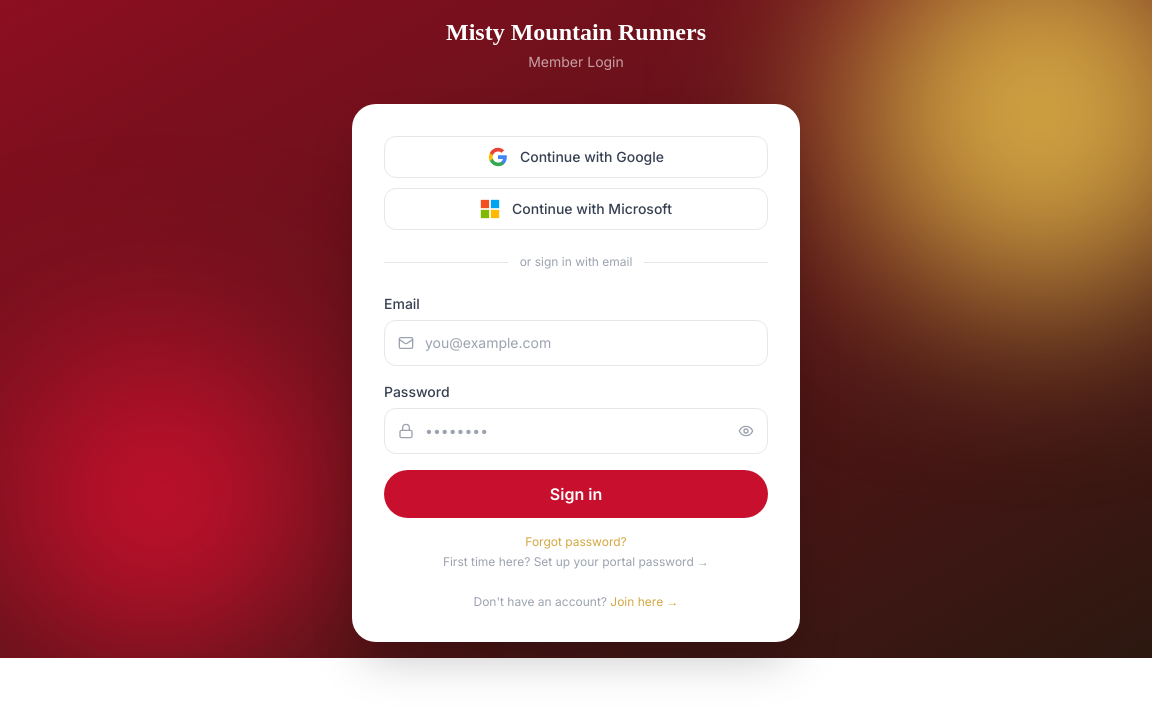
it: login page — OAuth stall › surfaces an error instead of spinning when signIn rejects
Click the button "Continue with Google".
click(576, 157)  # box [384,136,768,178]
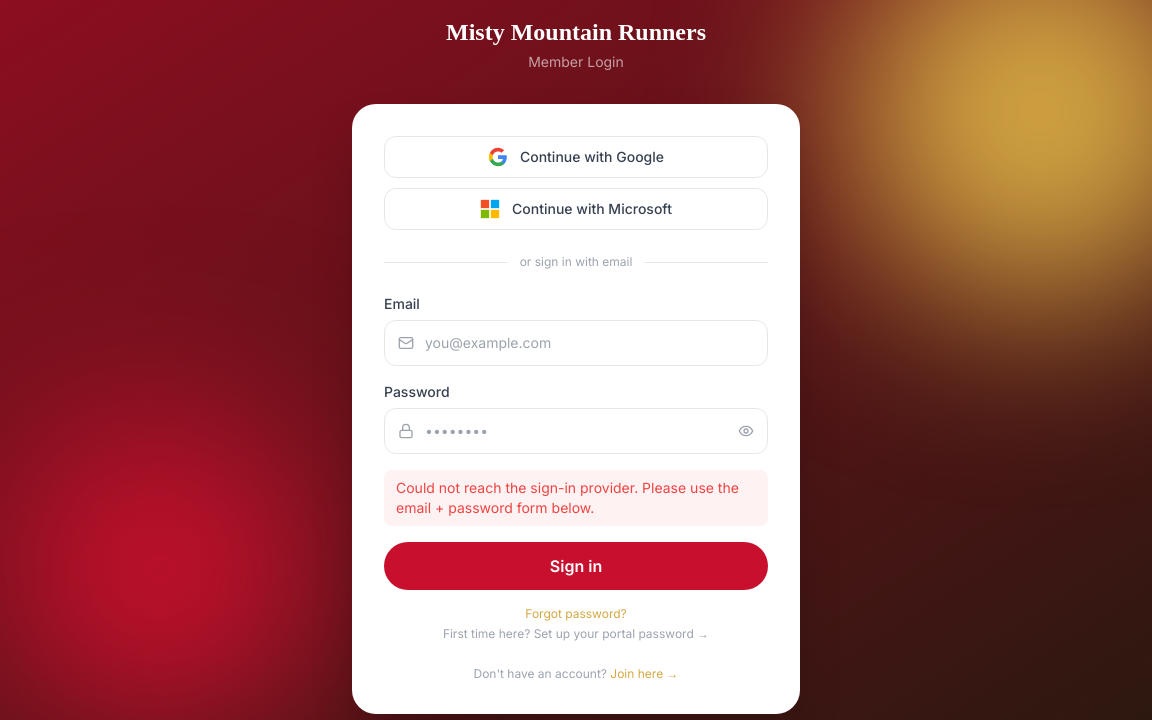
expect the text "Could not reach the sign-in provider" is shown: met, box [396,479,739,516]
